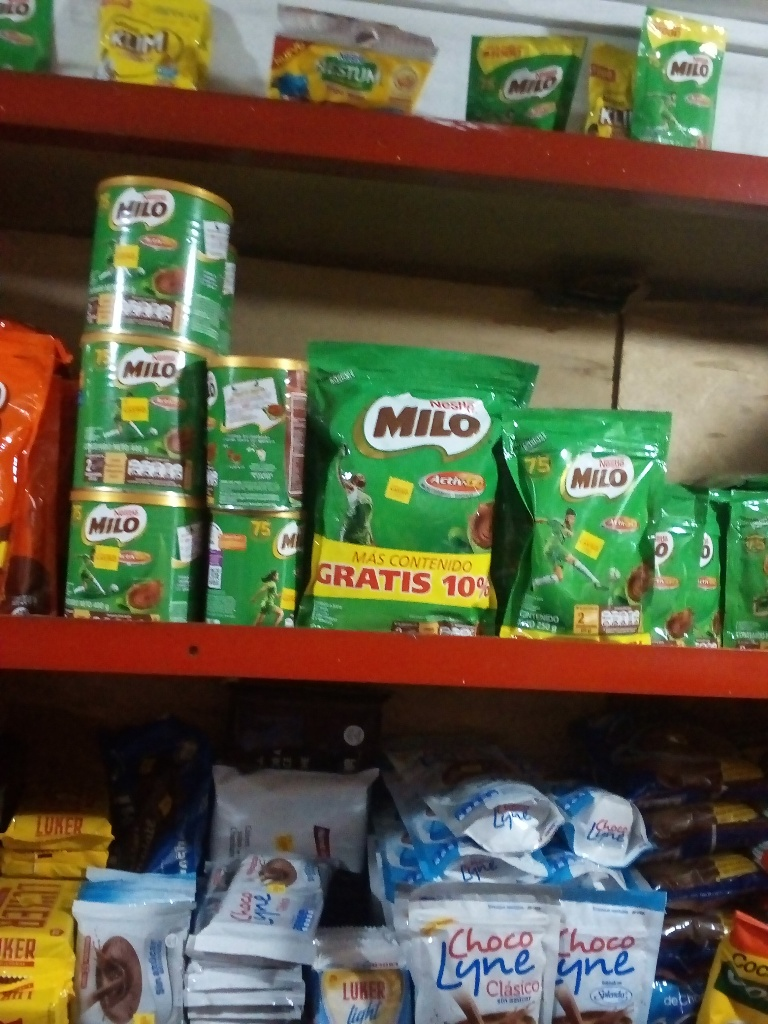COL0170203DYP10000: (715, 479, 764, 648)
COL0170203LAT20000: (205, 350, 311, 509)
COL0170203LAT40000: (62, 488, 201, 630)
